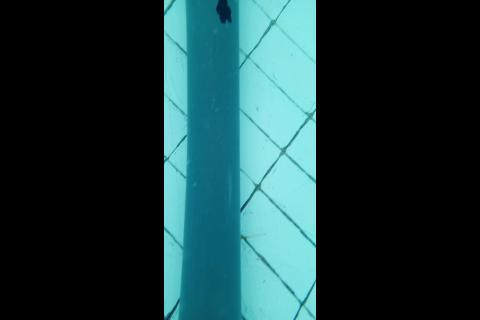kebocoran: (215, 0, 232, 25)
